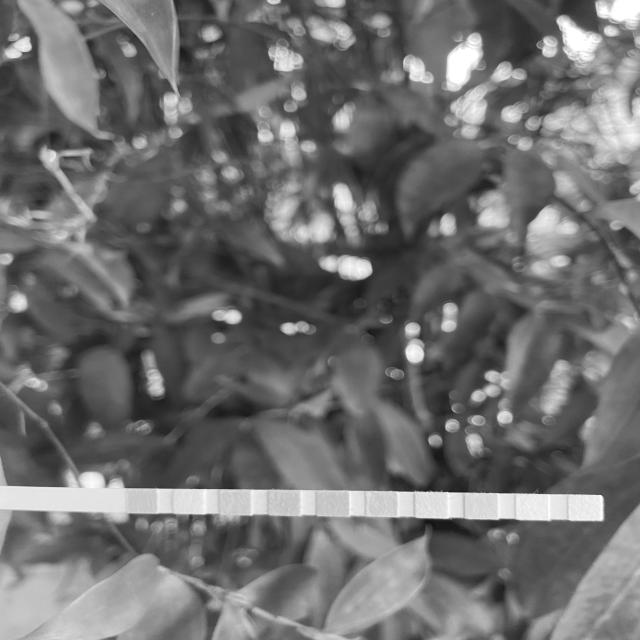Bilirubin: (175, 490, 203, 513)
Blood: (317, 491, 348, 516)
Glucose: (128, 490, 155, 512)
Ketone: (220, 490, 250, 514)
Leukocytes: (570, 496, 601, 520)
Nitrite: (518, 495, 548, 519)
Protein: (416, 492, 447, 517)
SpGravity: (270, 490, 300, 515)
Urobilinogen: (466, 493, 497, 519)
background: (0, 0, 640, 640)
pH: (366, 492, 396, 516)
strip: (1, 487, 605, 521)
